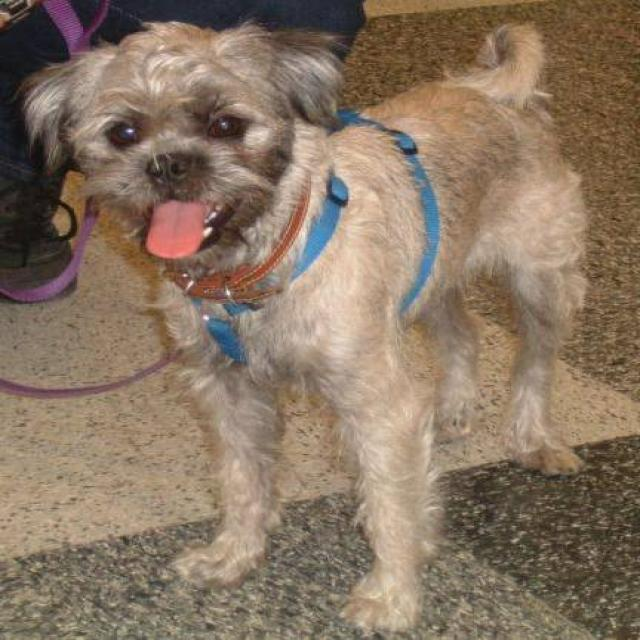happy: (18, 9, 640, 640)
